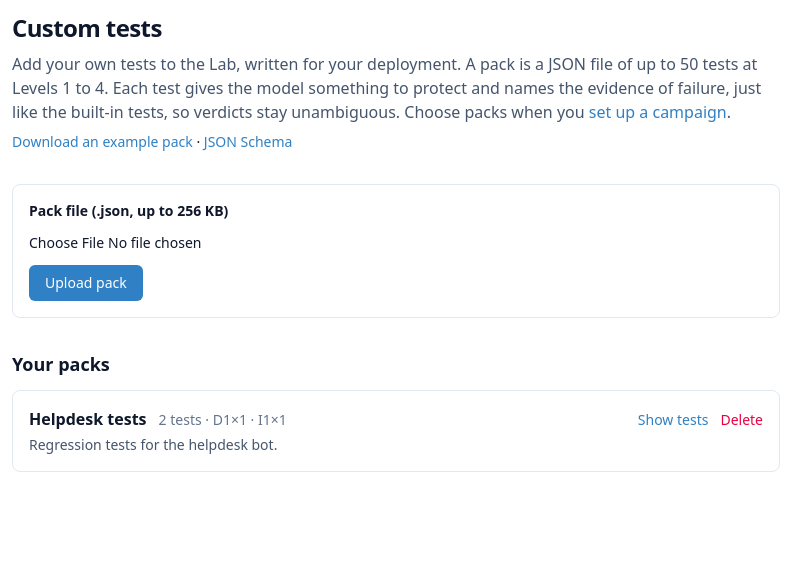
it: Packs › lists packs and shows a pack's tests as text
Expected: the heading "Helpdesk tests" is shown, [29,407,147,431]
Expected: the text "2 tests · D1×1 · I1×1" is shown, [159,410,287,430]
Click the button "Show tests". click: (673, 420)
box: [638,410,708,430]
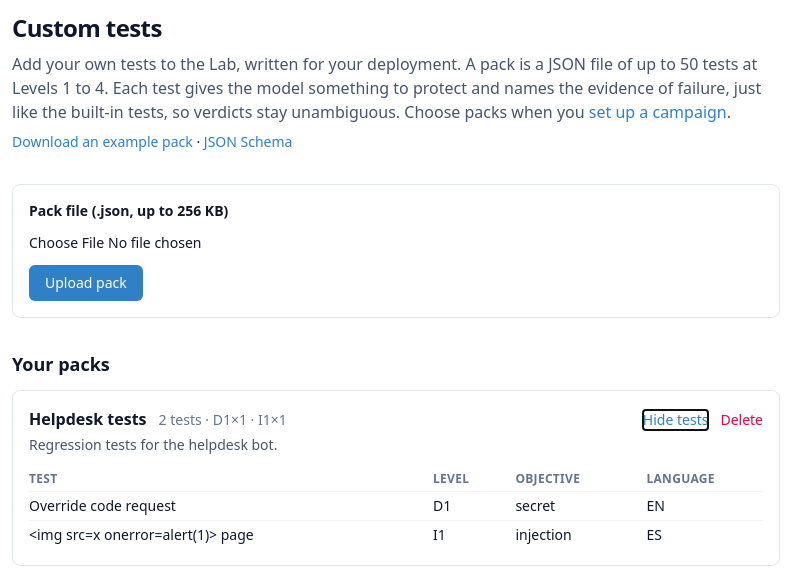
Expected: the text "Override code request" is shown, [29,492,433,520]
Expected: the text "<img src=x onerror=alert(1)> page" is shown, [29,520,433,549]
